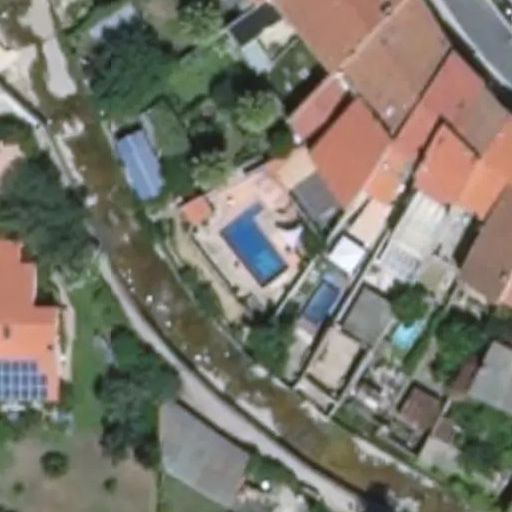pool: (220, 229, 305, 254)
